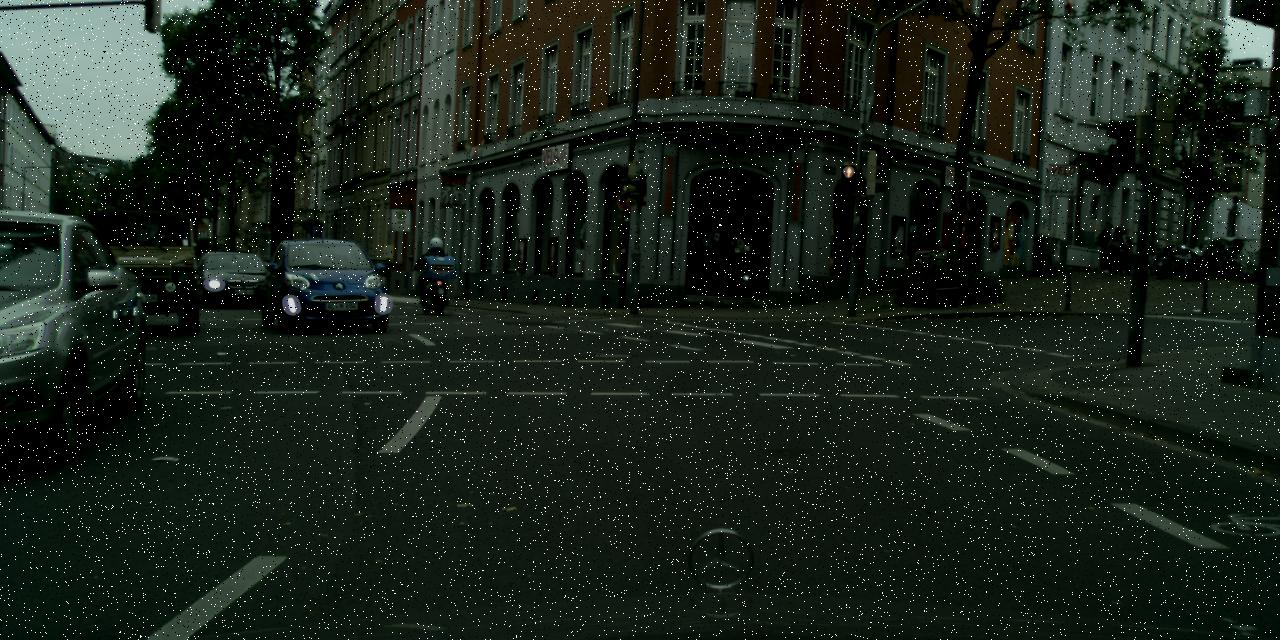ped: (419, 236, 448, 306), (1096, 223, 1115, 271), (1106, 225, 1125, 273), (1117, 228, 1135, 274)
